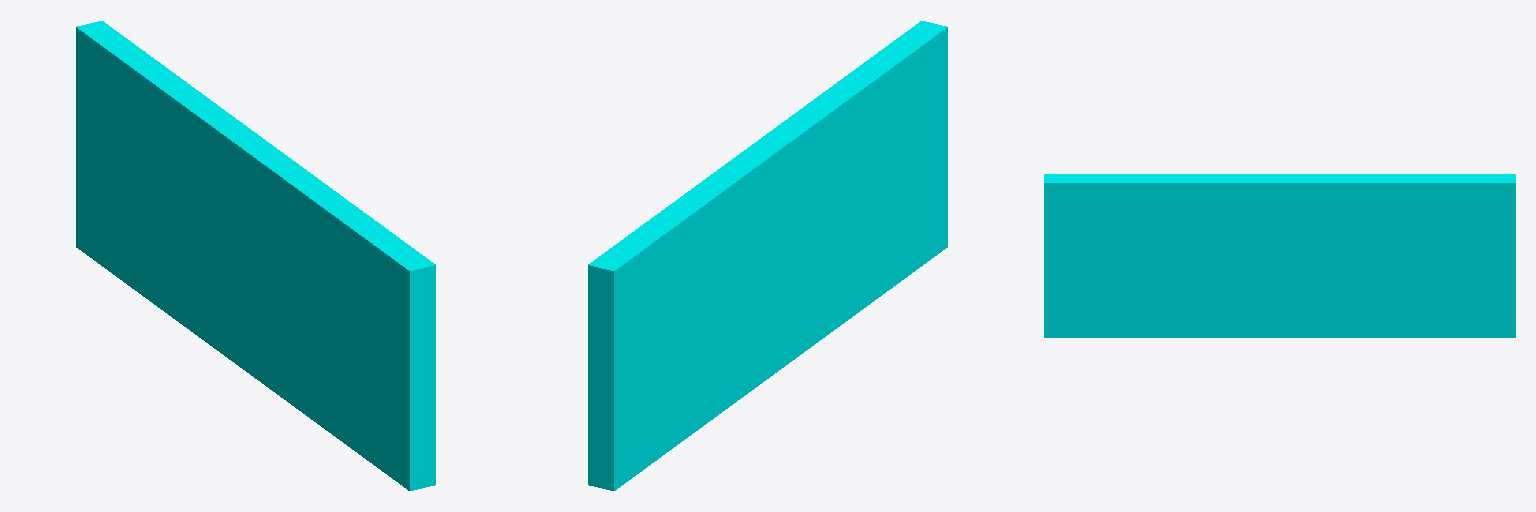
URDF robot description (ball):
<?xml version="0.0" ?>
<robot name="ball">
    <link name="wall">
        <contact>
            <lateral_friction value="1"/>
        </contact>

        <inertial>
            <origin xyz="0 0 0" rpy="0 0 0"/>
            <mass value="0.0"/>
            <inertia ixx="0"  ixy="0"  ixz="0" iyy="0" iyz="0" izz="0" />
        </inertial>

        <visual>
            <origin xyz="0 0 0" rpy="0 0 0" />
            <geometry>
                <box size="0.05 1.1 0.4" />
            </geometry>
            <material name="Cyan">
                <color rgba="0 1.0 1.0 1.0"/>
            </material>
        </visual>

        <collision>
            <origin xyz="0 0 0" rpy="0 0 0"/>
            <geometry>
                <box size="0.05 1.1 0.4" />
            </geometry>
        </collision>
    </link>
</robot>

--- Facts derived from the render (not from the file) ---
3 views of the same robot in one strip: view 1: azimuth 30°, elevation 25°; view 2: azimuth 150°, elevation 25°; view 3: azimuth 270°, elevation 25° (orthographic).
Robot: ball — 1 links, 0 joints (none); root link wall; default pose: every joint at zero.
Links seen in each view (by area): view 1: wall; view 2: wall; view 3: wall.
Link boxes in pixels (left/top/right/bottom): wall: left=76, top=21, right=435, bottom=490; wall: left=588, top=21, right=947, bottom=490; wall: left=1044, top=174, right=1515, bottom=337.
Size in the robot's own frame: 0.05 by 1.1 by 0.4 metres.
Geometry: primitives only (box / cylinder / sphere), no mesh files.